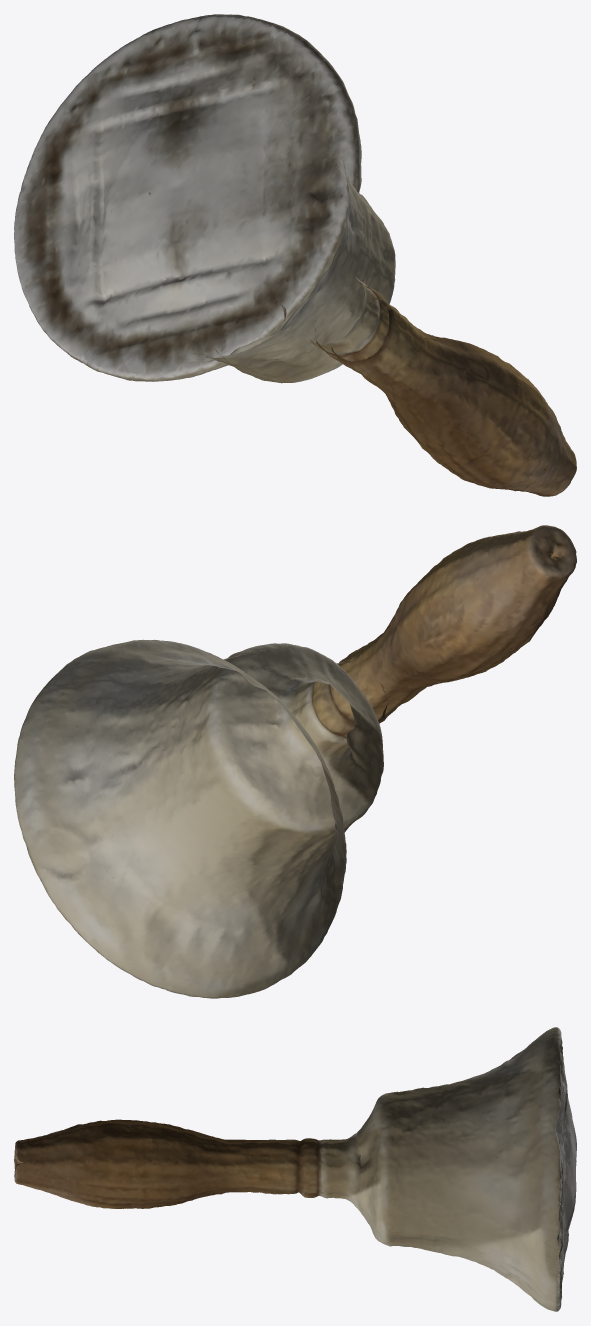
The model's file is bell.glb.
3 views of the same model, one above another, from view 1: azimuth 30°, elevation 25°; view 2: azimuth 150°, elevation 25°; view 3: azimuth 270°, elevation 25° (orthographic). The views are drawn at different scales.
Size of the model in its own units: 0.5038 by 0.5047 by 1.
